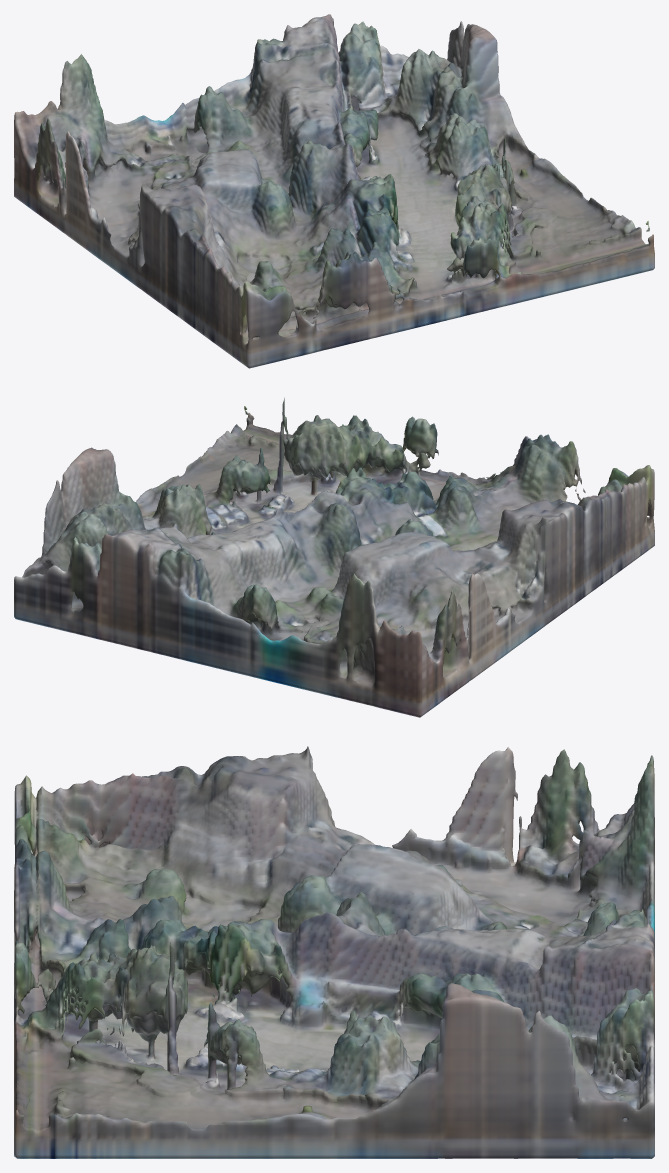
File: gao_sat3dgen.glb
3 views of the same model, one above another, from view 1: azimuth 30°, elevation 25°; view 2: azimuth 150°, elevation 25°; view 3: azimuth 270°, elevation 25° (orthographic). The views are drawn at different scales.
Visible parts, largest first — view 1: mesh.obj; view 2: mesh.obj; view 3: mesh.obj.
Part boxes in pixels (x1,y1,x2,y2): mesh.obj: (14,14,654,368); mesh.obj: (14,397,654,717); mesh.obj: (14,746,654,1158).
Size of the model in its own units: 1.61 by 0.4835 by 1.61.
